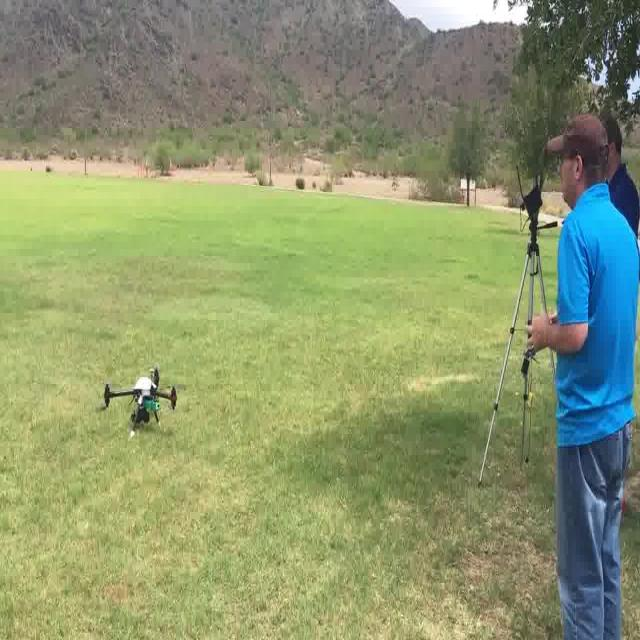drones: (90, 358, 188, 438)
